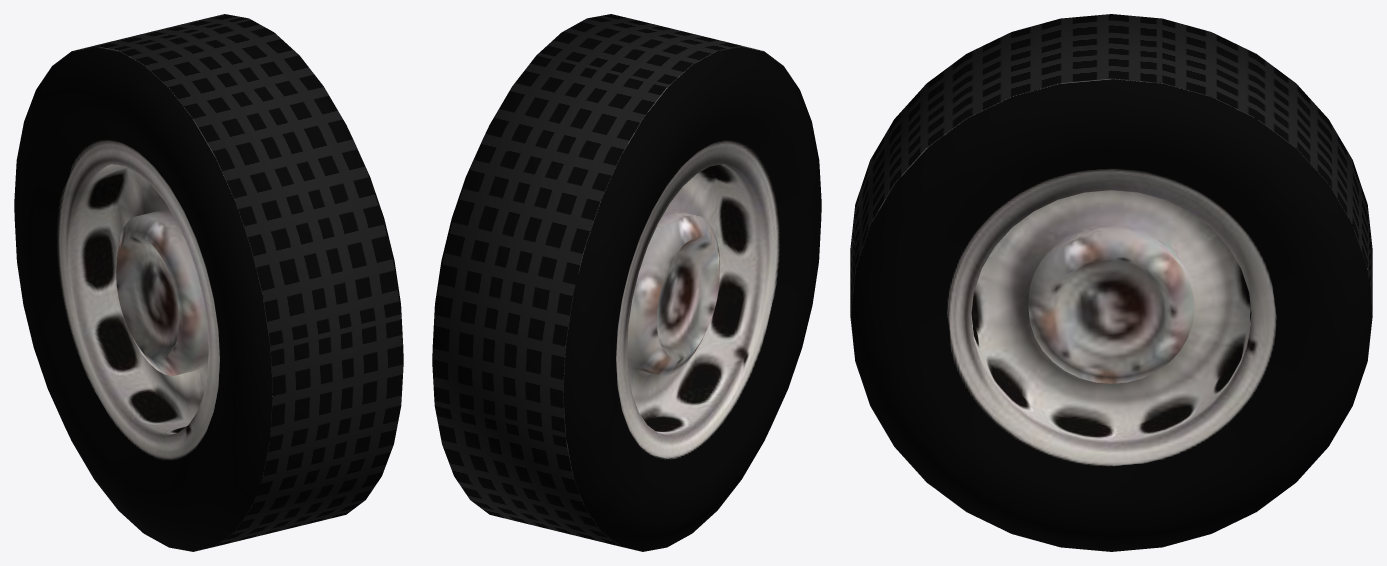
The model's file is truck_wheel.obj.
3 views of the same model, side by side, from view 1: azimuth 30°, elevation 25°; view 2: azimuth 150°, elevation 25°; view 3: azimuth 270°, elevation 25° (orthographic).
Parts seen in each view (by area): view 1: Cylinder; view 2: Cylinder; view 3: Cylinder.
Part boxes in pixels (x1,y1,x2,y2): Cylinder: (14, 14, 403, 551); Cylinder: (432, 14, 821, 551); Cylinder: (850, 14, 1372, 551).
Size of the model in its own units: 0.7278 by 2 by 2.
Materials: 1 (1 with a texture image).
